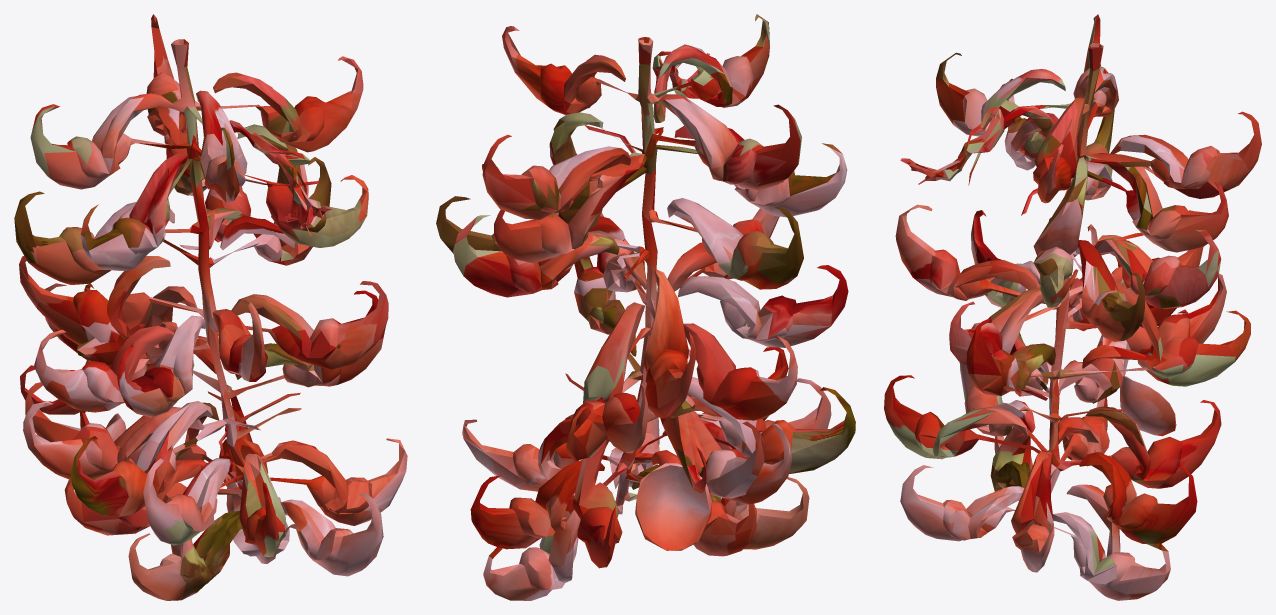
The model's file is garden_flower_02.glb.
3 views of the same model, side by side, from view 1: azimuth 30°, elevation 25°; view 2: azimuth 150°, elevation 25°; view 3: azimuth 270°, elevation 25° (orthographic). The views are drawn at different scales.
Parts seen in each view (by area): view 1: 翡翠葛; view 2: 翡翠葛; view 3: 翡翠葛.
Boxes of the visible parts, x1,y1,x2,y2 form: 翡翠葛: [14, 14, 407, 600]; 翡翠葛: [436, 14, 855, 600]; 翡翠葛: [884, 14, 1261, 600].
Size of the model in its own units: 0.4217 by 0.619 by 0.4148.
Materials: 1 (1 with a texture image).
